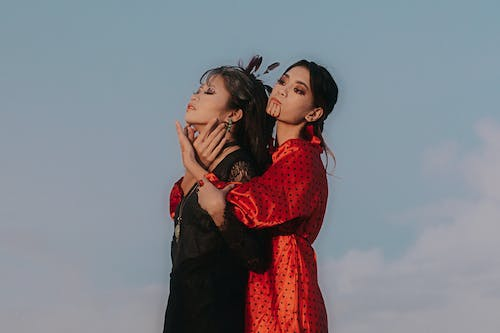blood: (265, 99, 283, 120)
